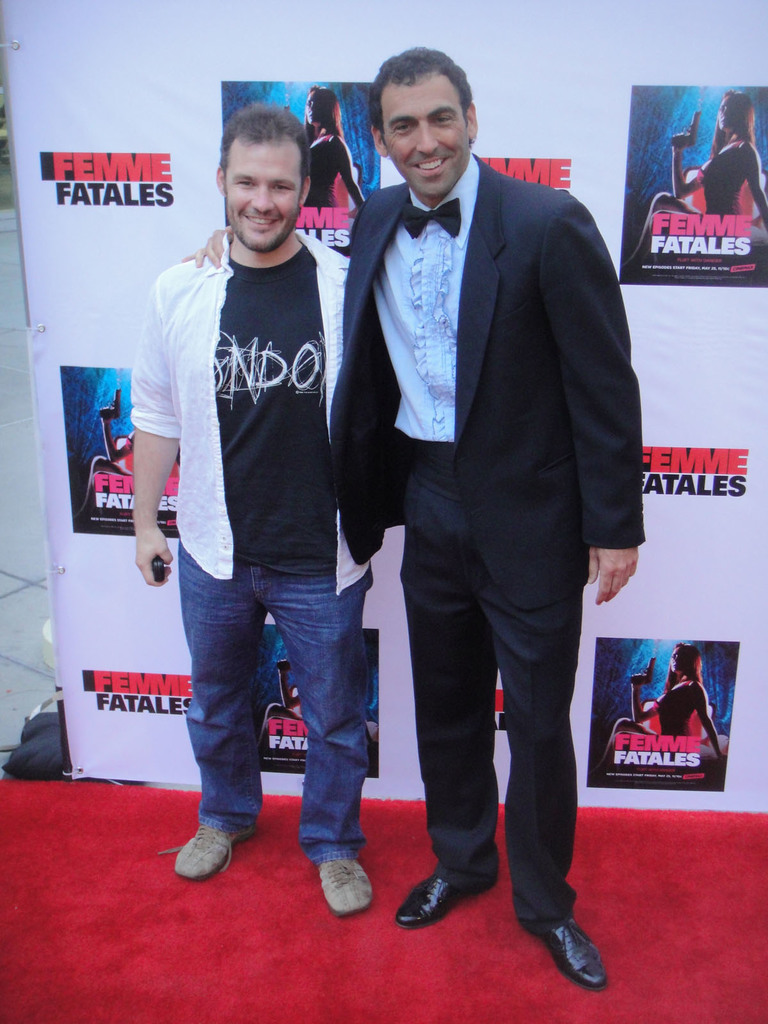Footwear: (544, 913, 612, 993), (392, 872, 474, 932), (170, 820, 252, 877), (318, 862, 383, 922)
